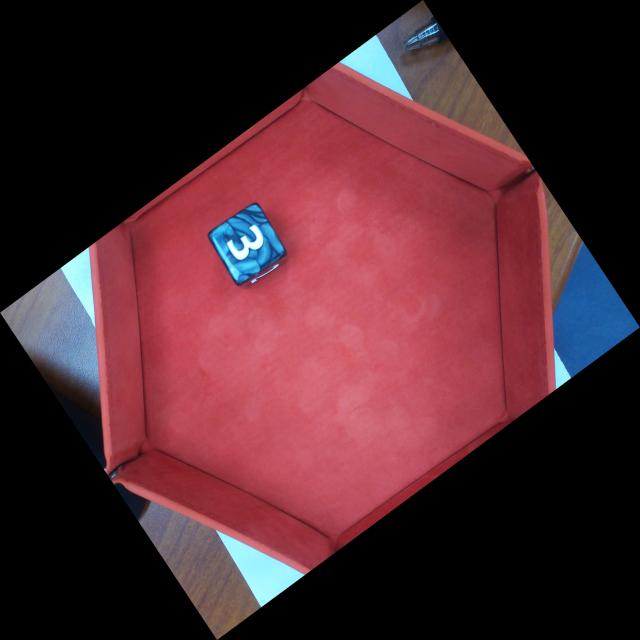dice: (213, 206, 289, 289)
